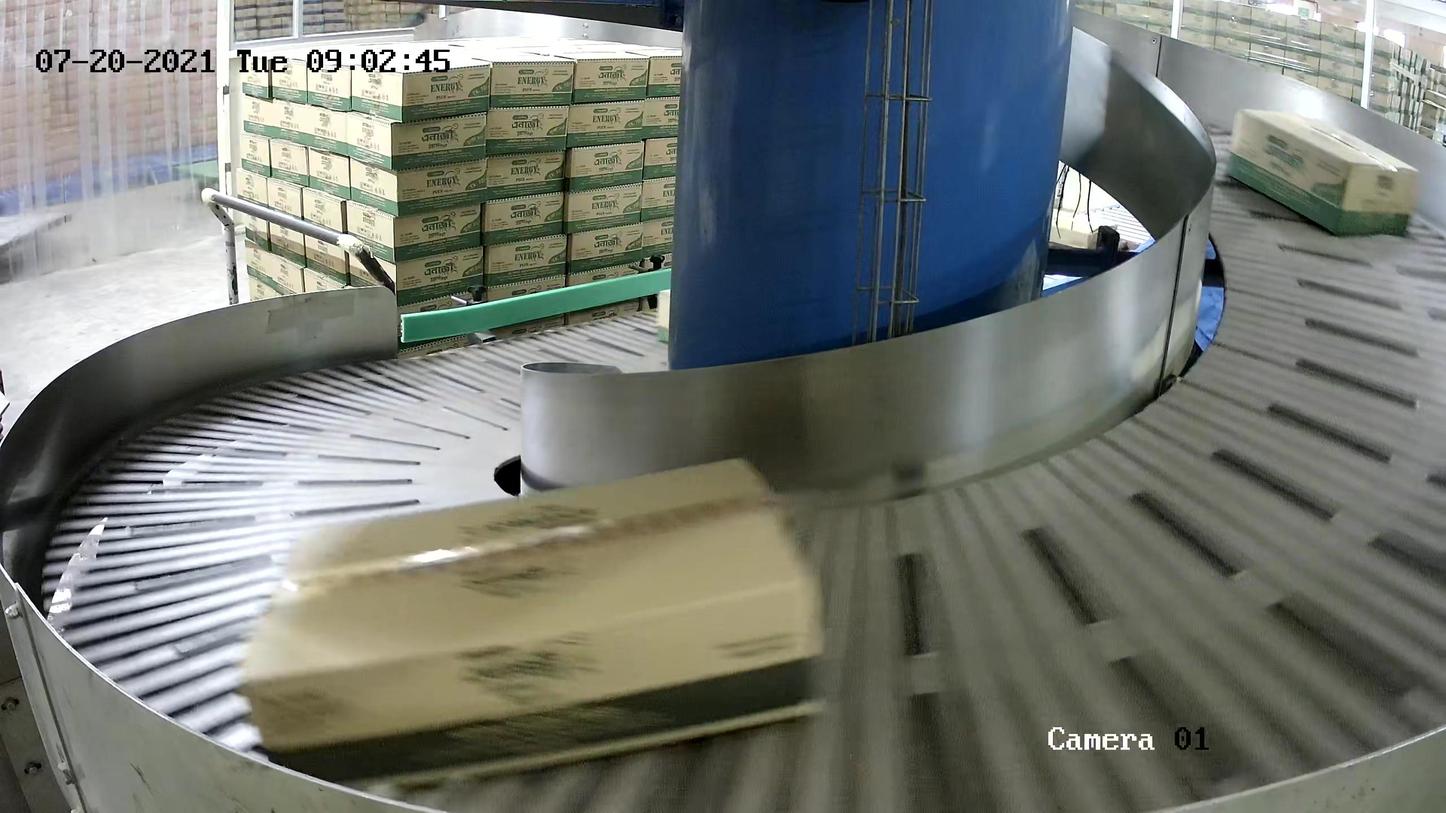Box: (230, 451, 833, 793), (1224, 107, 1419, 238)
